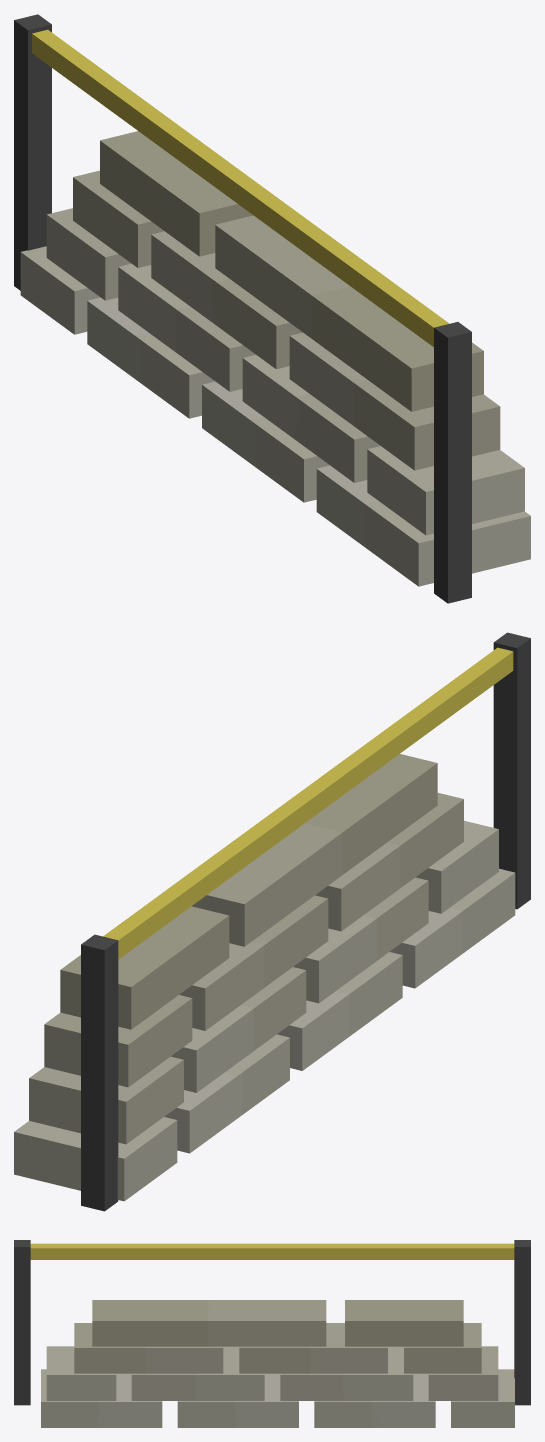
Rendered from SM_SurvivalSandbagBarricade.glb.
The picture shows the model from 3 angles, top to bottom: view 1: azimuth 30°, elevation 25°; view 2: azimuth 150°, elevation 25°; view 3: azimuth 270°, elevation 25°; orthographic projection. The views are drawn at different scales.
Parts seen in each view (by area): view 1: rail, post_r, bag3_2, bag3_0, post_l, bag3_1, bag1_5, bag0_6, bag2_4, bag2_0, bag2_2, bag1_0 (+12 smaller); view 2: rail, post_l, bag3_0, bag3_1, post_r, bag3_2, bag0_0, bag1_0, bag2_0, bag2_1, bag1_5, bag2_3 (+12 smaller); view 3: rail, bag3_1, bag3_0, bag3_2, post_r, post_l, bag1_5, bag2_0, bag2_1, bag2_4, bag1_0, bag1_3 (+12 smaller).
Boxes of the visible parts, x1,y1,x2,y2 form: rail: [32, 29, 449, 346]; post_r: [434, 322, 471, 603]; bag3_2: [312, 286, 483, 411]; bag3_0: [100, 131, 253, 256]; post_l: [14, 14, 51, 290]; bag3_1: [215, 215, 349, 338]; bag1_5: [367, 446, 524, 535]; bag0_6: [364, 500, 530, 586]; bag2_4: [350, 377, 500, 470]; bag2_0: [73, 170, 164, 267]; bag2_2: [211, 279, 302, 369]; bag1_0: [46, 208, 131, 300]; rail: [103, 647, 513, 959]; post_l: [81, 934, 118, 1211]; bag3_0: [60, 906, 229, 1029]; bag3_1: [192, 823, 342, 946]; post_r: [493, 632, 530, 909]; bag3_2: [305, 754, 437, 874]; bag0_0: [14, 1117, 177, 1201]; bag1_0: [29, 1056, 183, 1144]; bag2_0: [44, 995, 192, 1087]; bag2_1: [179, 939, 268, 1030]; bag1_5: [415, 820, 498, 913]; bag2_3: [315, 840, 400, 931]; rail: [30, 1243, 514, 1259]; bag3_1: [207, 1300, 326, 1346]; bag3_0: [345, 1300, 463, 1346]; bag3_2: [92, 1300, 210, 1346]; post_r: [14, 1240, 30, 1405]; post_l: [514, 1240, 530, 1405]; bag1_5: [46, 1346, 116, 1400]; bag2_0: [404, 1323, 481, 1373]; bag2_1: [310, 1323, 387, 1373]; bag2_4: [74, 1323, 151, 1373]; bag1_0: [428, 1346, 498, 1400]; bag1_3: [195, 1346, 264, 1400].
Bounding box in the file's own units: 0.42 × 0.95 × 2.81.
